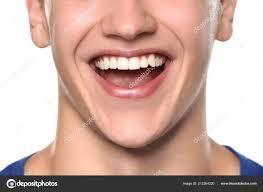normal: (115, 55, 130, 73), (129, 53, 141, 70), (108, 53, 118, 70), (140, 53, 149, 70), (147, 53, 157, 68), (103, 54, 111, 70), (98, 57, 104, 70), (159, 56, 166, 66), (155, 55, 160, 68), (94, 59, 100, 69)
